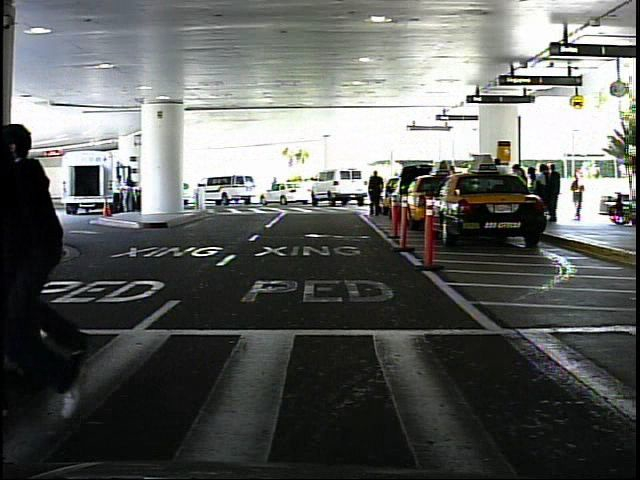person: (366, 169, 388, 217), (571, 172, 590, 219), (110, 174, 125, 215)
